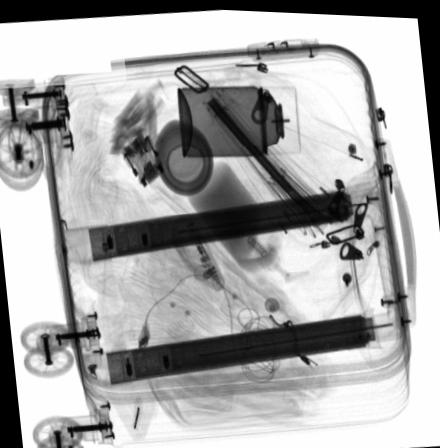Sprayer: (175, 81, 300, 155)
